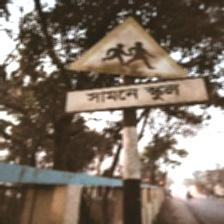School-in-front: (63, 13, 208, 116)
